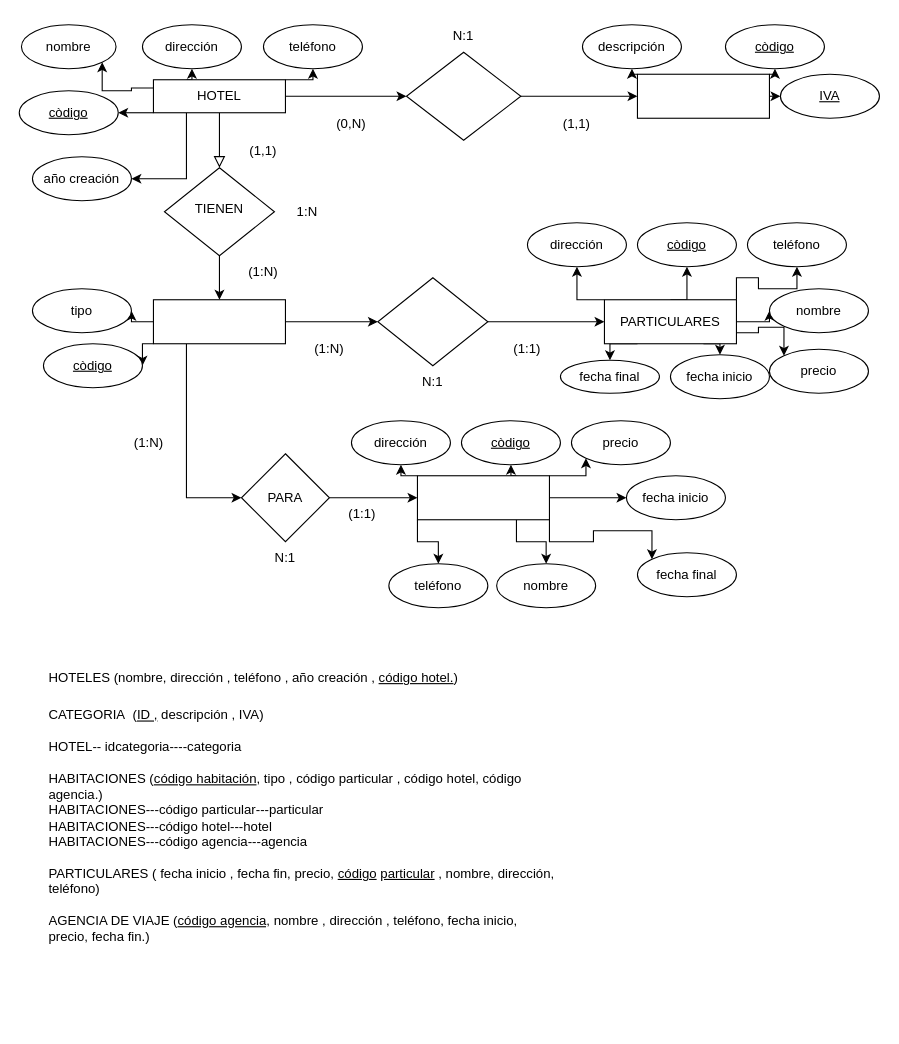
Image size: 899x1044. Some labels were removed from this diagram. Here are the shapes that lost their labels. From the top down, the centre of each, then its label:
At point 463,95: "SE LE DAN".
At point 702,95: "CATEGORIA".
At point 218,321: "HABITACIONES".
At point 432,321: "RESERVAS".
At point 482,497: "AGENCIA TRIBUTARIA".
